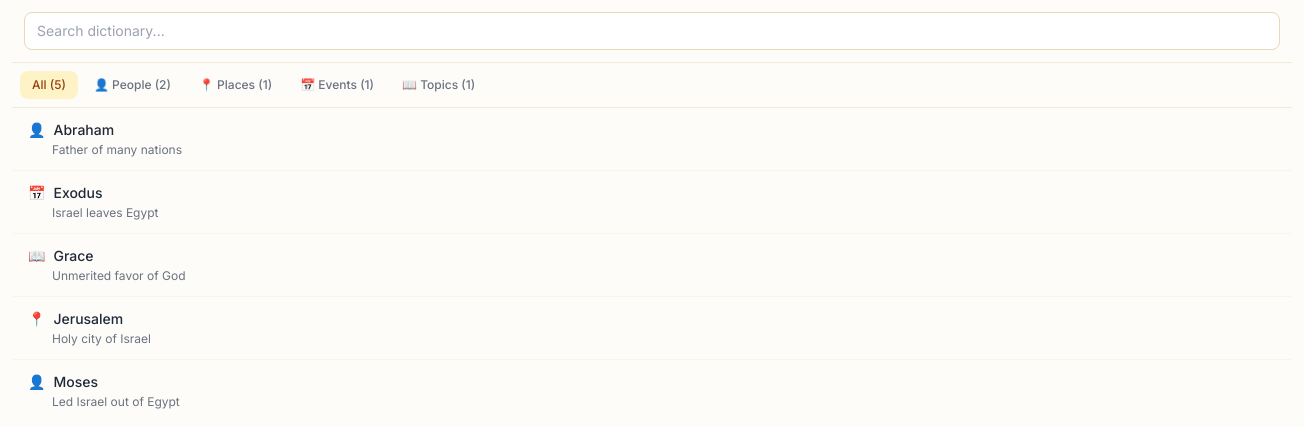
Test: DictionaryBrowser › shows "No entries found" when search has no results
Expected: the text "Abraham" is shown, x1=54 y1=120 x2=114 y2=140
Type "xyznonexistent" into the field with placeholder "Search dictionary..." at (652, 31), box x1=24 y1=12 x2=1280 y2=50
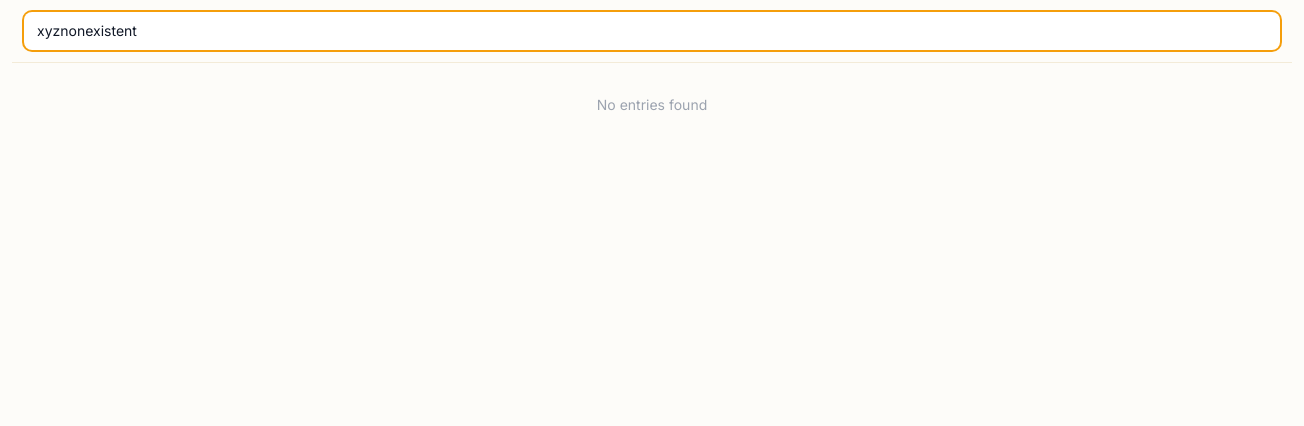
Result: the text "No entries found" is shown at x1=597 y1=96 x2=707 y2=113
